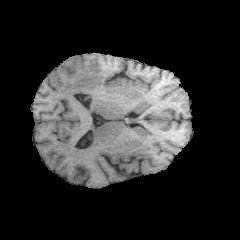glioma: (64, 72, 105, 94)
